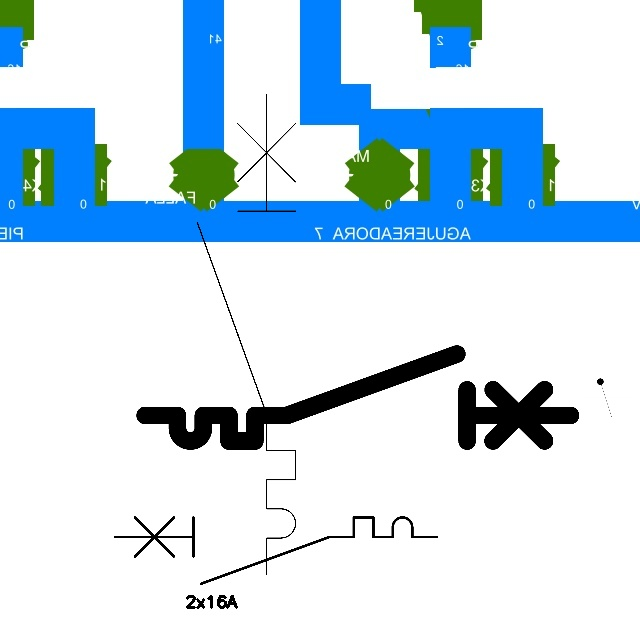interruptor_termomagnetico: (185, 82, 308, 587), (134, 343, 581, 452), (107, 509, 445, 592)
